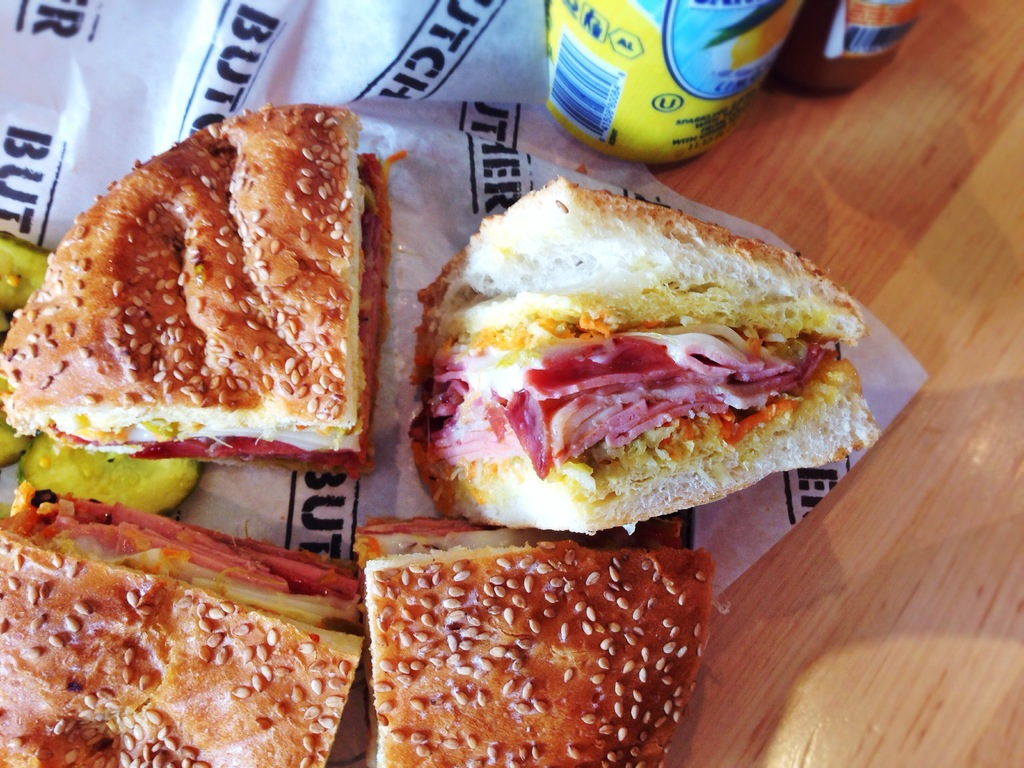sandwich: (414, 177, 885, 535), (0, 101, 398, 479), (0, 479, 367, 767), (352, 514, 716, 766)
